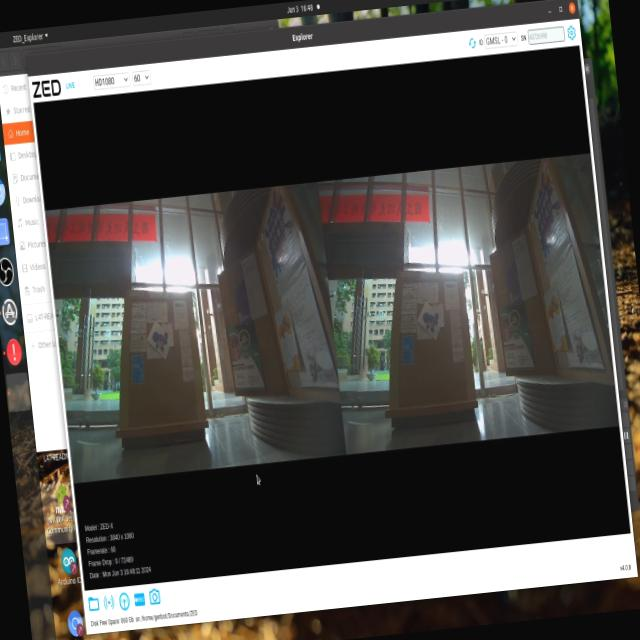blue: (138, 326, 176, 362), (416, 307, 444, 338)
